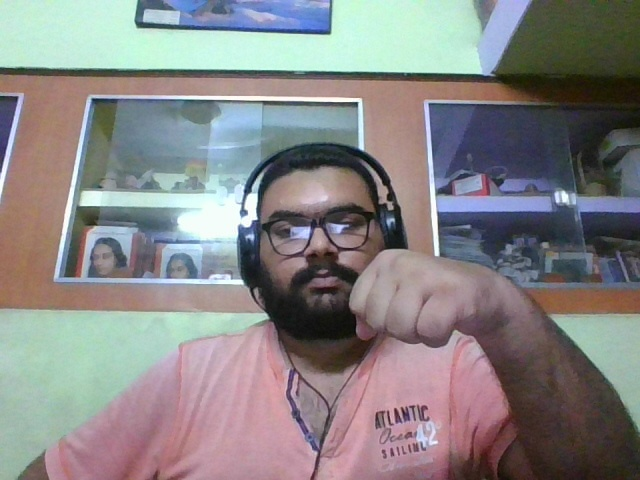yes: (348, 248, 557, 350)
